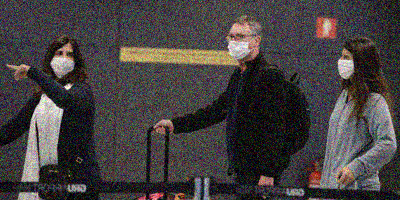with_mask: (224, 30, 254, 60), (49, 47, 77, 78), (336, 52, 354, 81)
